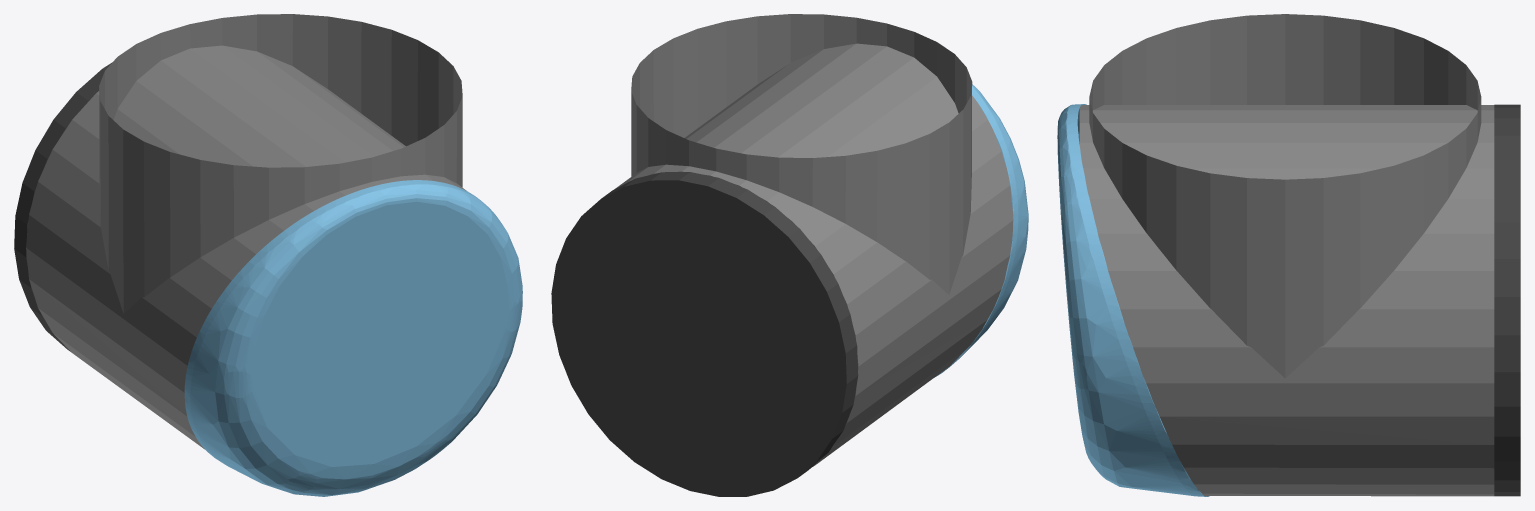
The picture shows the model from 3 angles, left to right: view 1: azimuth 30°, elevation 25°; view 2: azimuth 150°, elevation 25°; view 3: azimuth 270°, elevation 25°; orthographic projection. The views are drawn at different scales.
Parts seen in each view (by area): view 1: Node_0000017FEC30E400 (×3); view 2: Node_0000017FEC30E400 (×3); view 3: Node_0000017FEC30E400 (×3).
Boxes of the visible parts, x1,y1,x2,y2 form: Node_0000017FEC30E400 (×3): (14, 14, 522, 496); Node_0000017FEC30E400 (×3): (551, 14, 1028, 496); Node_0000017FEC30E400 (×3): (1057, 14, 1520, 496).
Bounding box in the file's own units: 0.1504 × 0.1611 × 0.1772.
